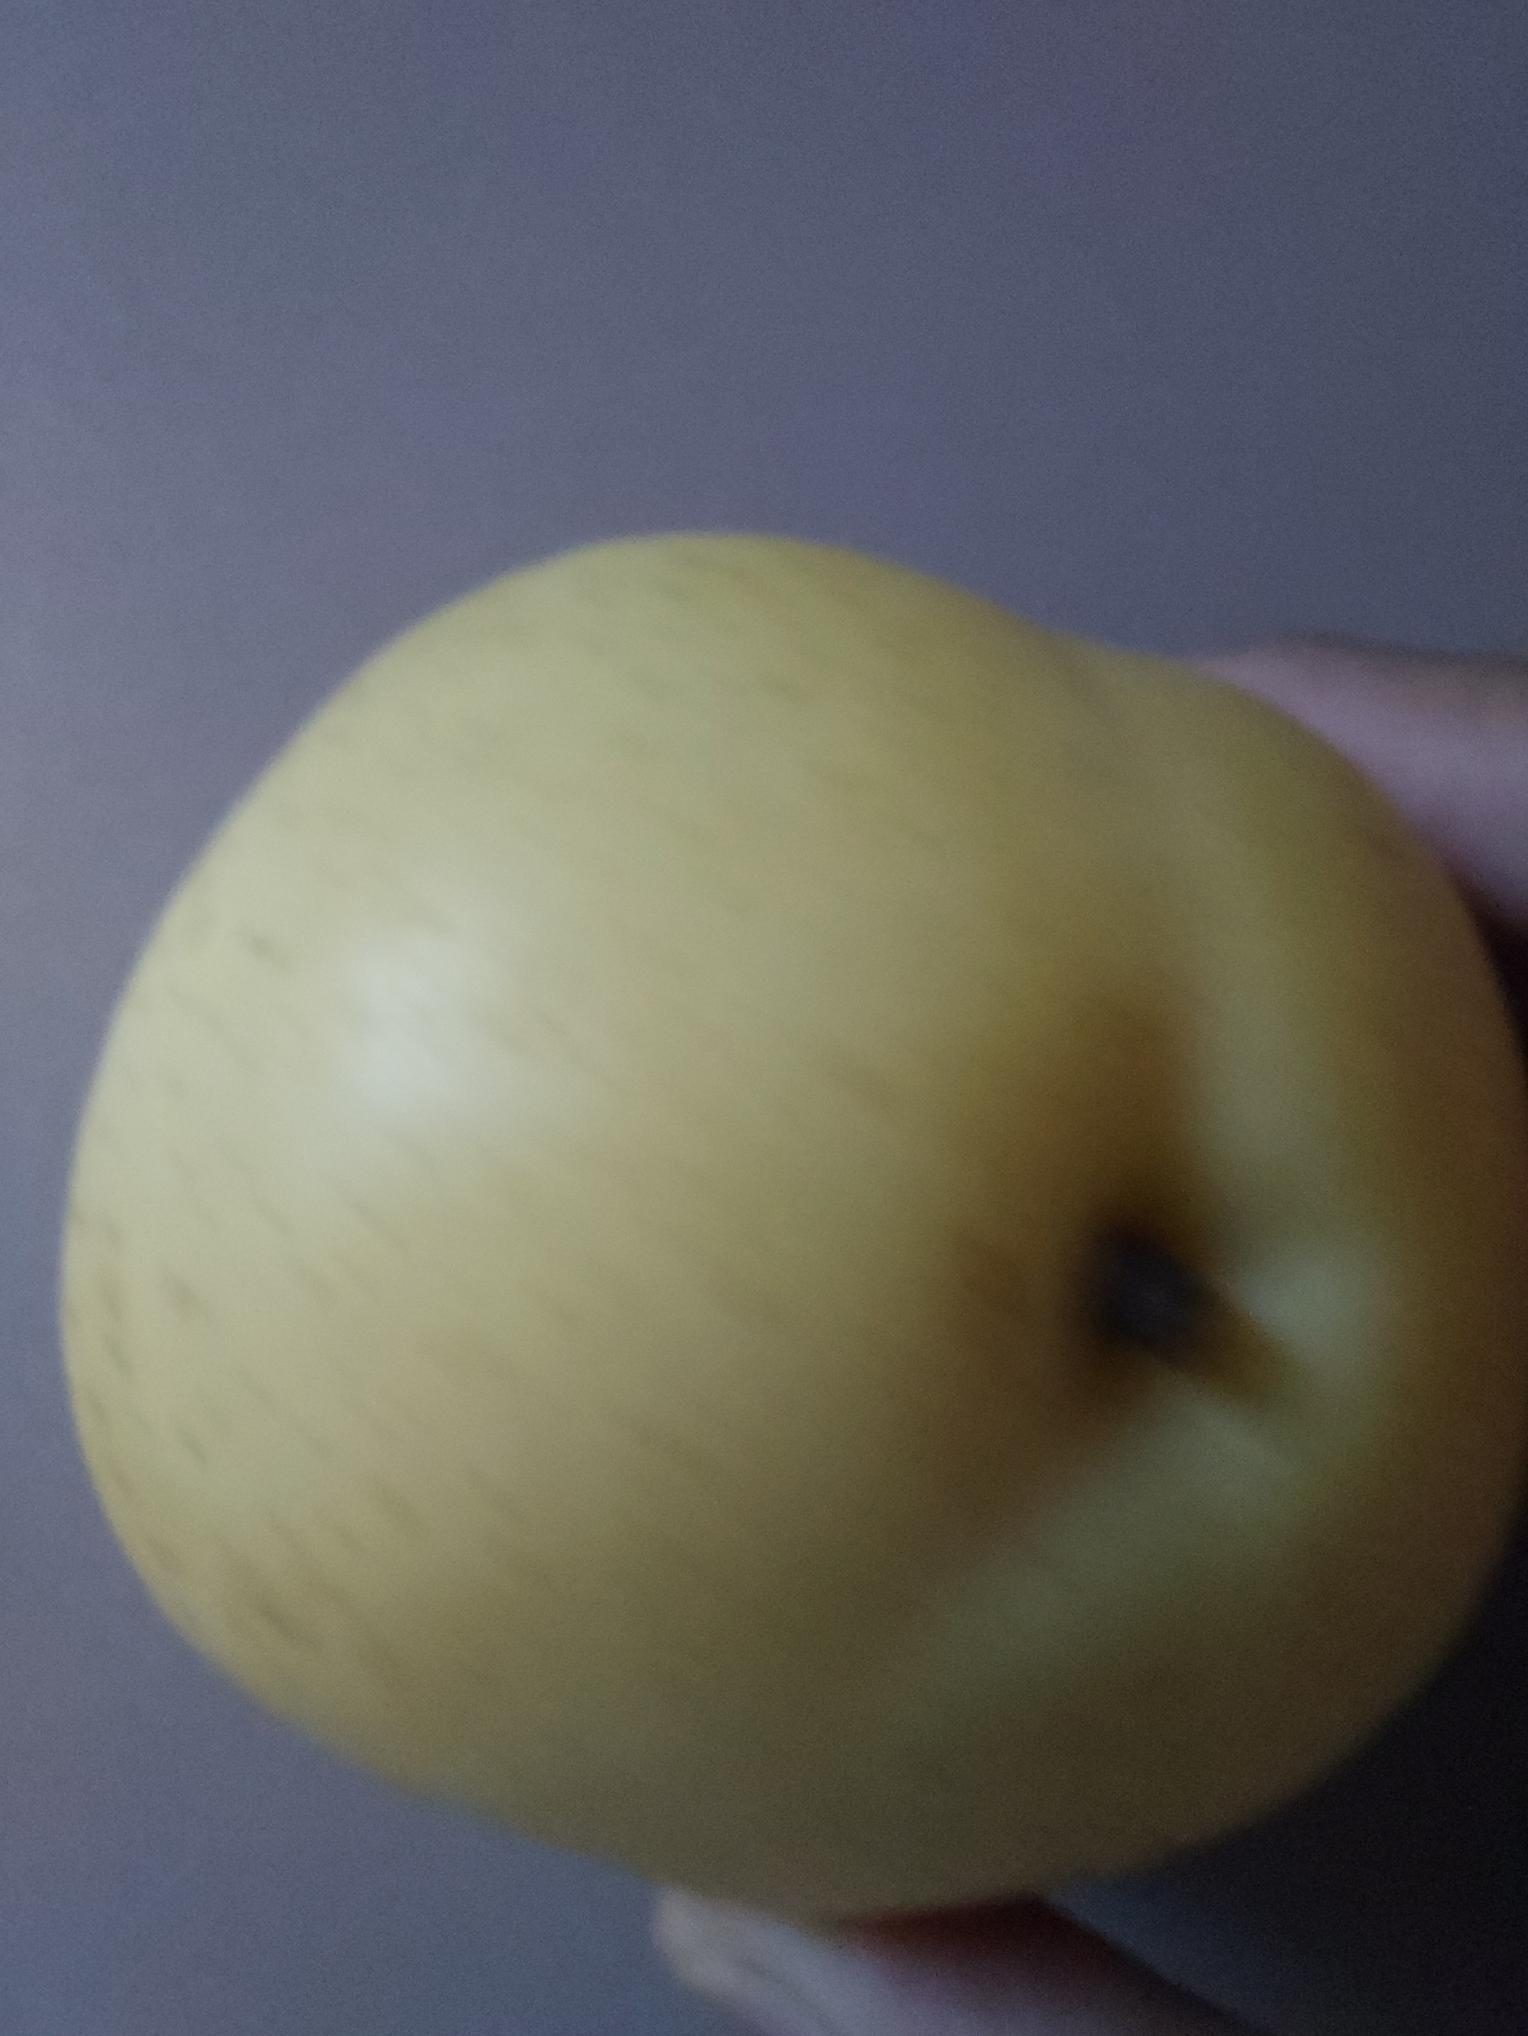Good Pear: (46, 519, 1528, 1903)
